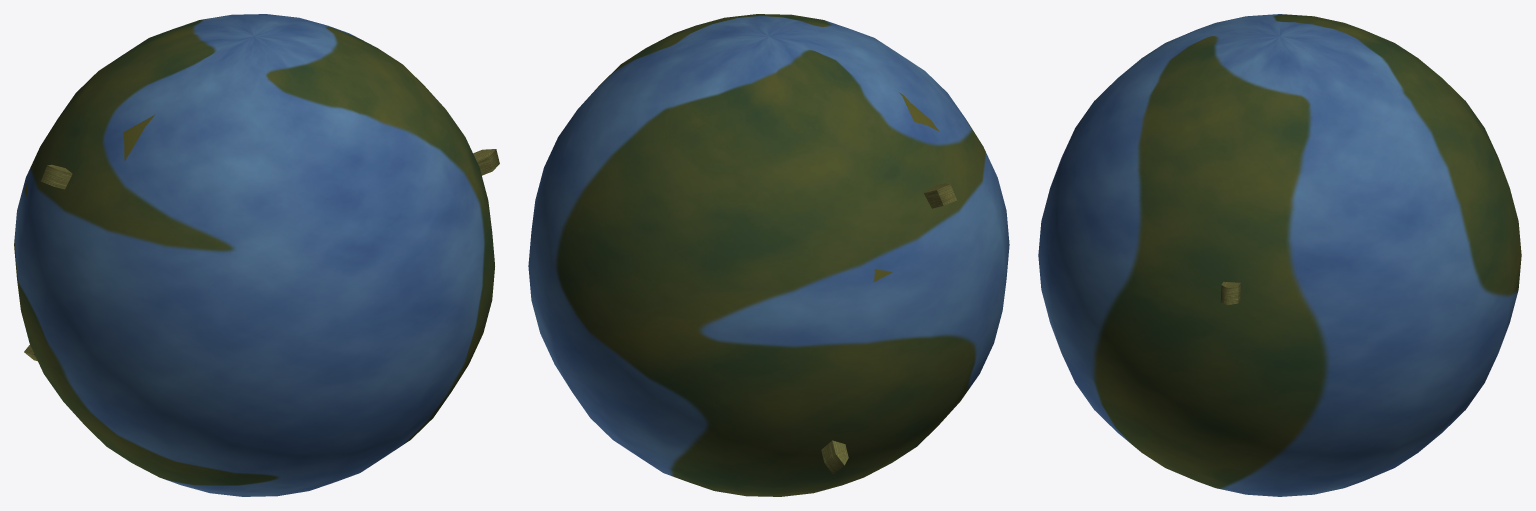
File: primitivePlanet.fbx
3 renders of one model, left to right at view 1: azimuth 30°, elevation 25°; view 2: azimuth 150°, elevation 25°; view 3: azimuth 270°, elevation 25°, orthographic.
Parts seen in each view (by area): view 1: PrimitivePlanet, woodHut1; view 2: PrimitivePlanet, woodHut2, woodHut1; view 3: PrimitivePlanet.
Part boxes in pixels (box(x1,y1,x2,y2)): PrimitivePlanet: box(14, 14, 494, 496); woodHut1: box(41, 164, 72, 189); PrimitivePlanet: box(528, 14, 1009, 496); woodHut2: box(821, 440, 848, 474); woodHut1: box(924, 183, 956, 208); PrimitivePlanet: box(1038, 14, 1521, 496).
Bounding box in the file's own units: 70.21 × 68.6 × 68.6.
